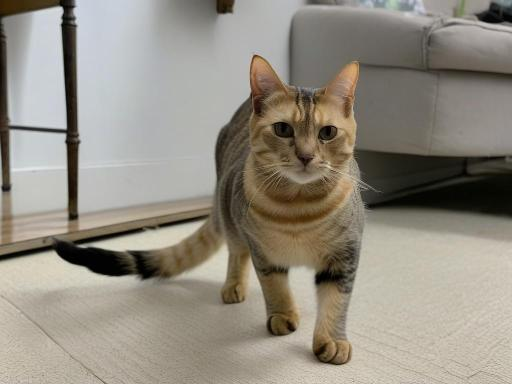cat_standing: (54, 55, 364, 364)
